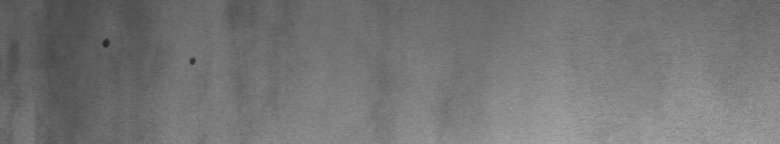fi: (97, 32, 117, 56)
